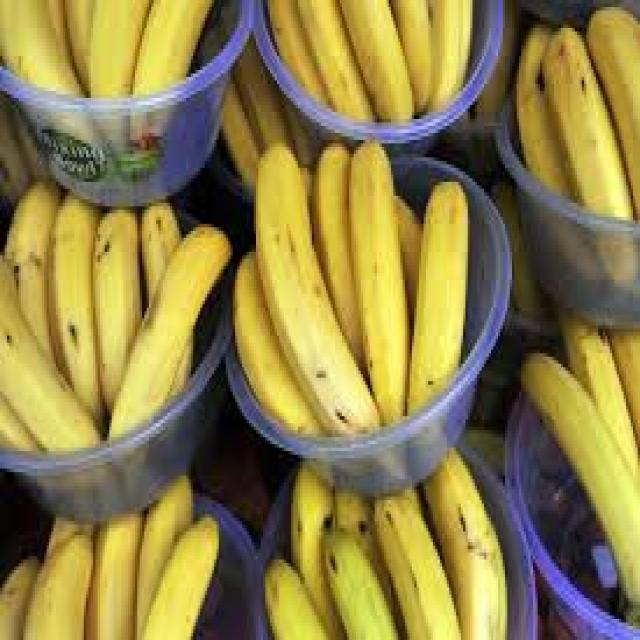Banana: (230, 136, 470, 441), (0, 174, 230, 451), (262, 444, 508, 637), (0, 0, 214, 182), (524, 299, 640, 614), (0, 472, 219, 637), (514, 3, 638, 220), (266, 0, 472, 126)
